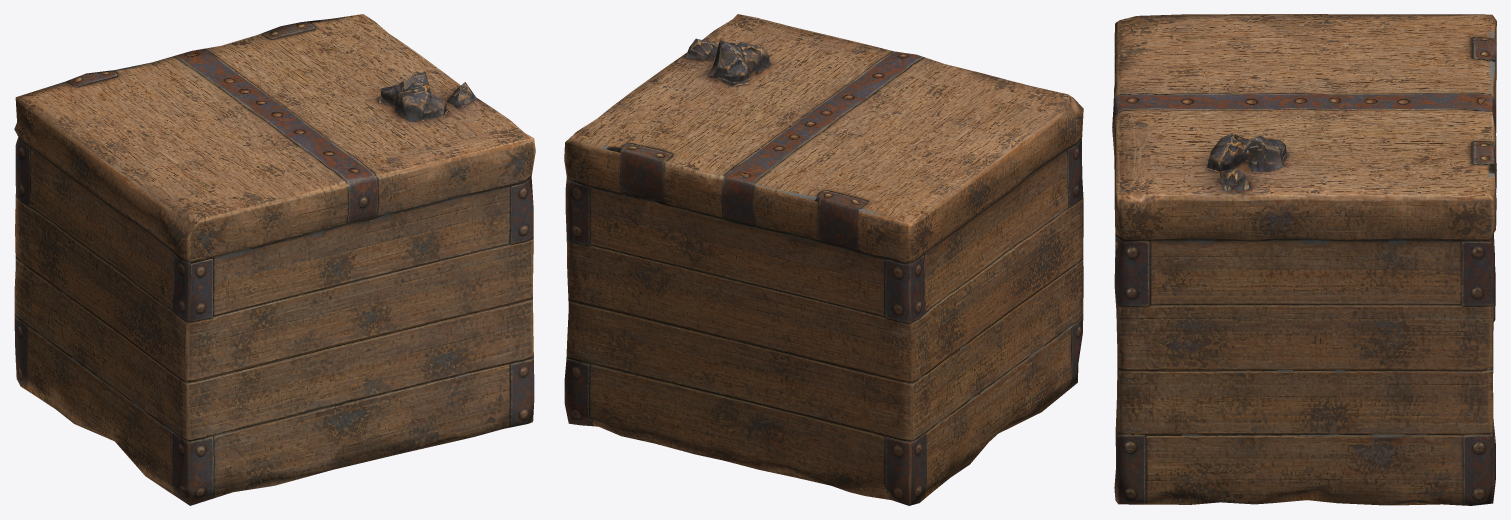
The model's file is WoodenCrate.glb.
3 renders of one model, left to right at view 1: azimuth 30°, elevation 25°; view 2: azimuth 150°, elevation 25°; view 3: azimuth 270°, elevation 25°, orthographic. The views are drawn at different scales.
Visible parts, largest first — view 1: texture_mapping; view 2: texture_mapping; view 3: texture_mapping.
Boxes of the visible parts, left/top/right/bottom form: texture_mapping: left=14, top=14, right=535, bottom=505; texture_mapping: left=564, top=14, right=1083, bottom=505; texture_mapping: left=1112, top=14, right=1496, bottom=505.
Bounding box in the file's own units: 0.9972 × 0.8708 × 0.8714.
Materials: 1 (1 with a texture image).
